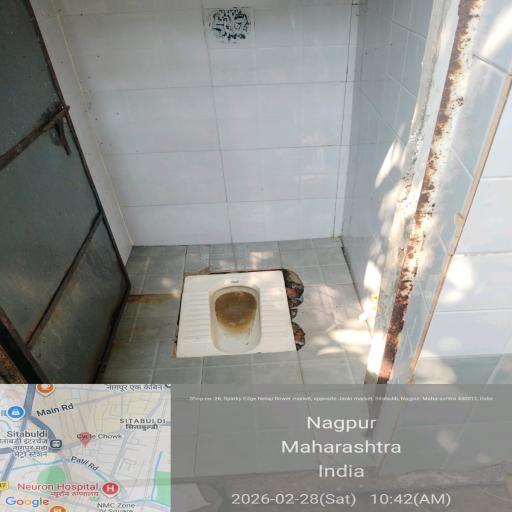clean_floor: (57, 38, 383, 214)
dirty_indian: (151, 267, 330, 369)
partial_dirty_indian: (85, 246, 419, 502)
